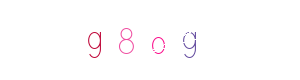8: (87, 0, 167, 80)
G: (73, 0, 153, 80), (151, 0, 231, 80)
O: (110, 0, 190, 80)
